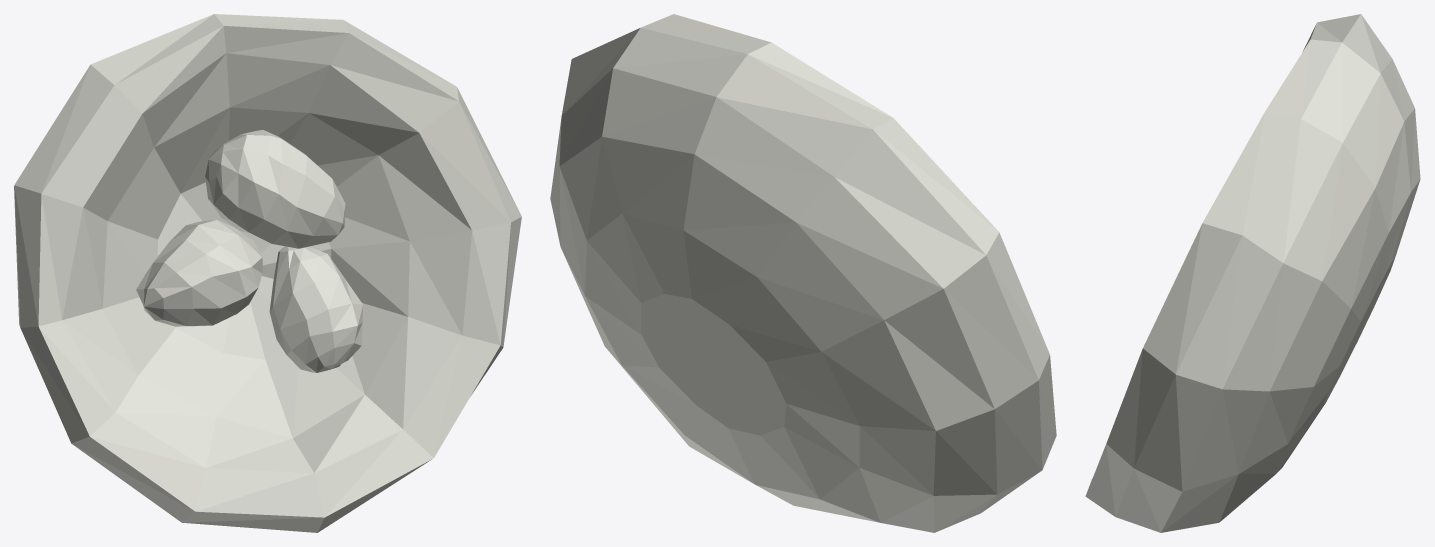
Rendered from Nest.fbx.
The picture shows the model from 3 angles, left to right: view 1: azimuth 30°, elevation 25°; view 2: azimuth 150°, elevation 25°; view 3: azimuth 270°, elevation 25°; orthographic projection. The views are drawn at different scales.
Parts seen in each view (by area): view 1: node_id105 (×3); view 2: node_id105; view 3: node_id105.
Part boxes in pixels (bbox=[...]): node_id105 (×3): bbox=[14, 14, 521, 532]; node_id105: bbox=[550, 14, 1056, 532]; node_id105: bbox=[1085, 14, 1420, 532].
Bounding box in the file's own units: 0.4443 × 0.4205 × 0.2706.
3 materials, 3 textured.
